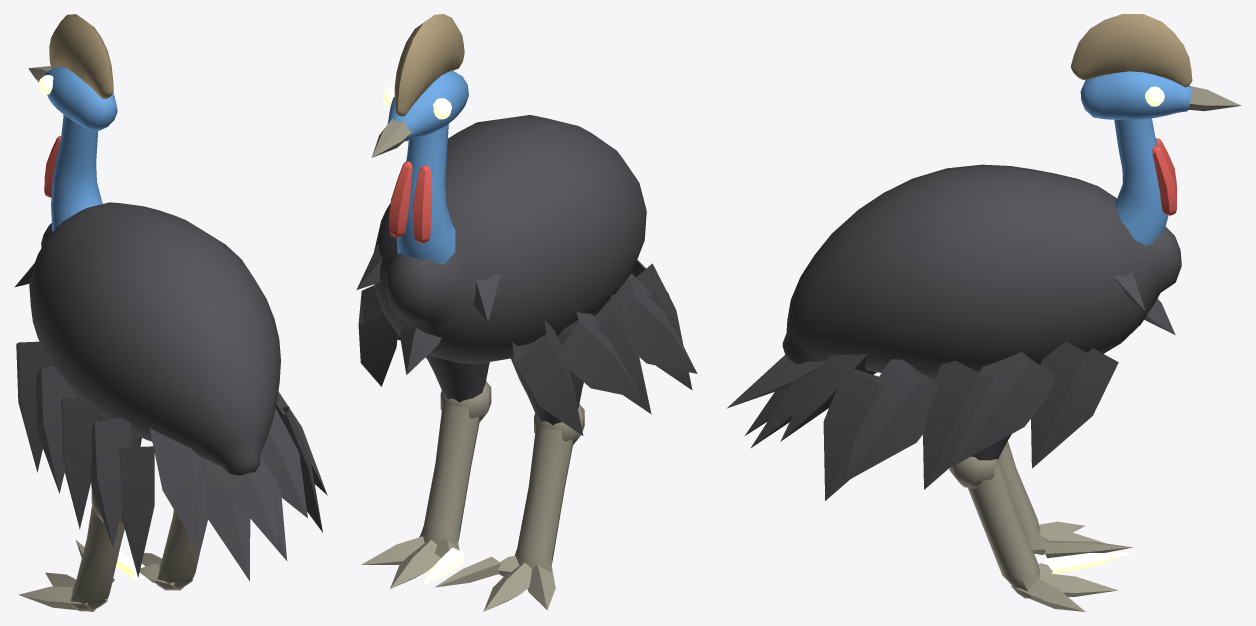
The model's file is Cassowary.glb.
3 renders of one model, left to right at view 1: azimuth 30°, elevation 25°; view 2: azimuth 150°, elevation 25°; view 3: azimuth 270°, elevation 25°, orthographic. The views are drawn at different scales.
Visible parts, largest first — view 1: Body, Head, Leg; view 2: Body, Leg, Head; view 3: Body, Head, Leg.
Boxes of the visible parts, box(x1,y1,x2,y2) form: Body: box(15, 114, 327, 611); Head: box(28, 14, 117, 130); Leg: box(86, 510, 199, 590); Body: box(356, 115, 697, 611); Leg: box(361, 355, 491, 588); Head: box(371, 14, 468, 157); Body: box(726, 118, 1181, 558); Head: box(1070, 14, 1241, 119); Leg: box(949, 372, 1133, 611).
Size of the model in its own units: 0.86 by 2.07 by 1.72.
